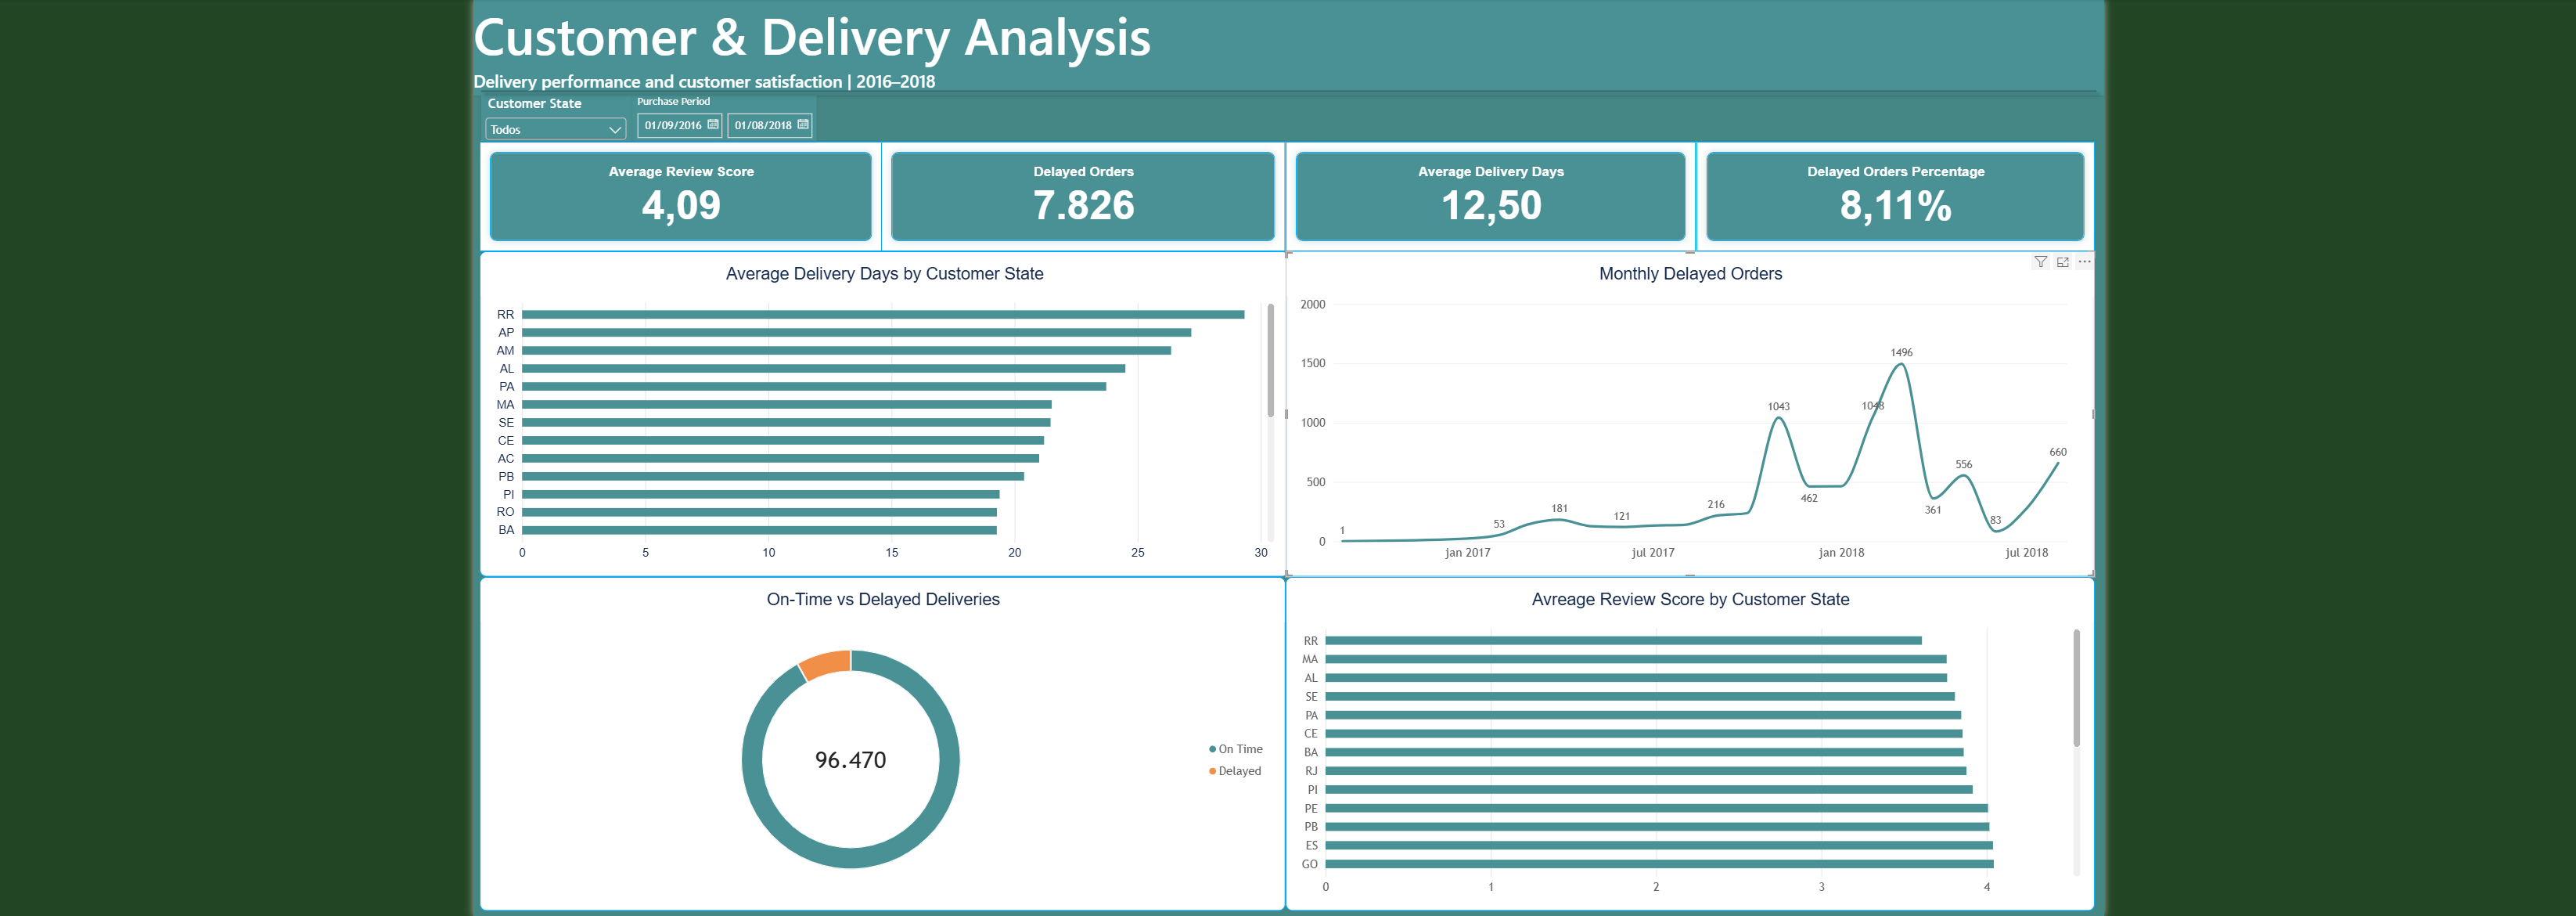

Layout of this report page (visuals, bound fields, positions):
{"tool":"powerbi","page":{"name":"Customer & Delivery Analysis","canvas":[1920,1080],"ordinal":1},"visuals":[{"type":"donutChart","title":"On-Time vs Delayed Deliveries","fields":{"Category":["Orders.Delivery Status"],"Y":["Count(Orders.order_id)"]},"box":[7.4,680.1,949.1,393.5],"z":0},{"type":"clusteredBarChart","title":"Average Delivery Days by Customer State","fields":{"Category":["Orders.customer_state"],"Y":["Orders.Average Delivery Days"]},"box":[7.4,296.7,952.8,383.3],"z":1000},{"type":"cardVisual","fields":{"Data":["Orders.Average Review Score"]},"box":[7.4,167.7,474.6,129],"z":2000},{"type":"cardVisual","fields":{"Data":["Orders.Average Delivery Days"]},"box":[956.5,167.7,483.8,129],"z":3000},{"type":"cardVisual","fields":{"Data":["Orders.Delayed Orders"]},"box":[480.1,167.7,476.4,129],"z":4000},{"type":"cardVisual","fields":{"Data":["Orders.Delayed Orders Percentage"]},"box":[1440.3,167.7,469,129],"z":5000},{"type":"lineChart","title":"Monthly Delayed Orders","fields":{"Category":["Orders.purchase_month"],"Y":["Orders.Delayed Orders"]},"box":[956.5,296.7,952.8,383.3],"z":6000},{"type":"barChart","title":"Avreage Review Score by Customer State","fields":{"Category":["Orders.customer_state"],"Y":["Orders.Average Review Score"]},"box":[956.5,680.1,952.8,393.5],"z":7000},{"type":"textbox","title":"Customer & Delivery Analysis","box":[0,0,1920.4,113.3],"z":8000},{"type":"slicer","fields":{"Values":["Orders.purchase_month"]},"box":[185.2,113.3,219.3,54.4],"z":9000},{"type":"slicer","fields":{"Values":["Orders.customer_state"]},"box":[9.2,113.3,176,54.4],"z":10000},{"type":"shape","box":[0,82.9,1920.4,50.7],"z":12000}]}

Visuals, with their boxes on the page's 1920x1080 design canvas (x1, y1, x2, y2). These are canvas units, not pixel positions in the 2576x916 screenshot, which may show the page scaled, cropped or inside an application window:
"On-Time vs Delayed Deliveries" donutChart: bbox(7, 680, 956, 1074)
"Average Delivery Days by Customer State" clusteredBarChart: bbox(7, 297, 960, 680)
cardVisual - Orders.Average Review Score: bbox(7, 168, 482, 297)
cardVisual - Orders.Average Delivery Days: bbox(956, 168, 1440, 297)
cardVisual - Orders.Delayed Orders: bbox(480, 168, 956, 297)
cardVisual - Orders.Delayed Orders Percentage: bbox(1440, 168, 1909, 297)
"Monthly Delayed Orders" lineChart: bbox(956, 297, 1909, 680)
"Avreage Review Score by Customer State" barChart: bbox(956, 680, 1909, 1074)
"Customer & Delivery Analysis" textbox: bbox(0, 0, 1920, 113)
slicer - Orders.purchase_month: bbox(185, 113, 404, 168)
slicer - Orders.customer_state: bbox(9, 113, 185, 168)
shape: bbox(0, 83, 1920, 134)
